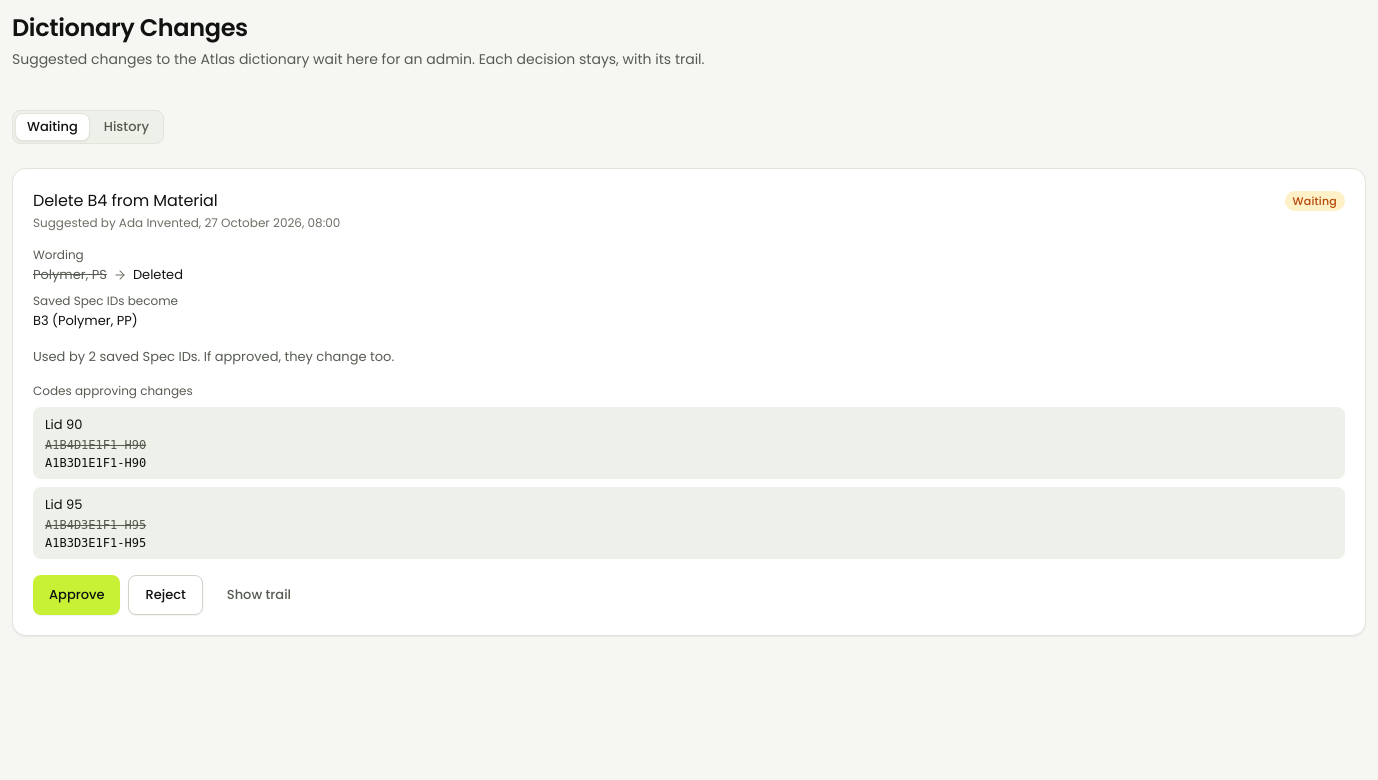
Test: DictionaryChangesPage › shows a refused approval's own message
Click the button "Approve".
click(77, 595)  # box left=33, top=575, right=120, bottom=615
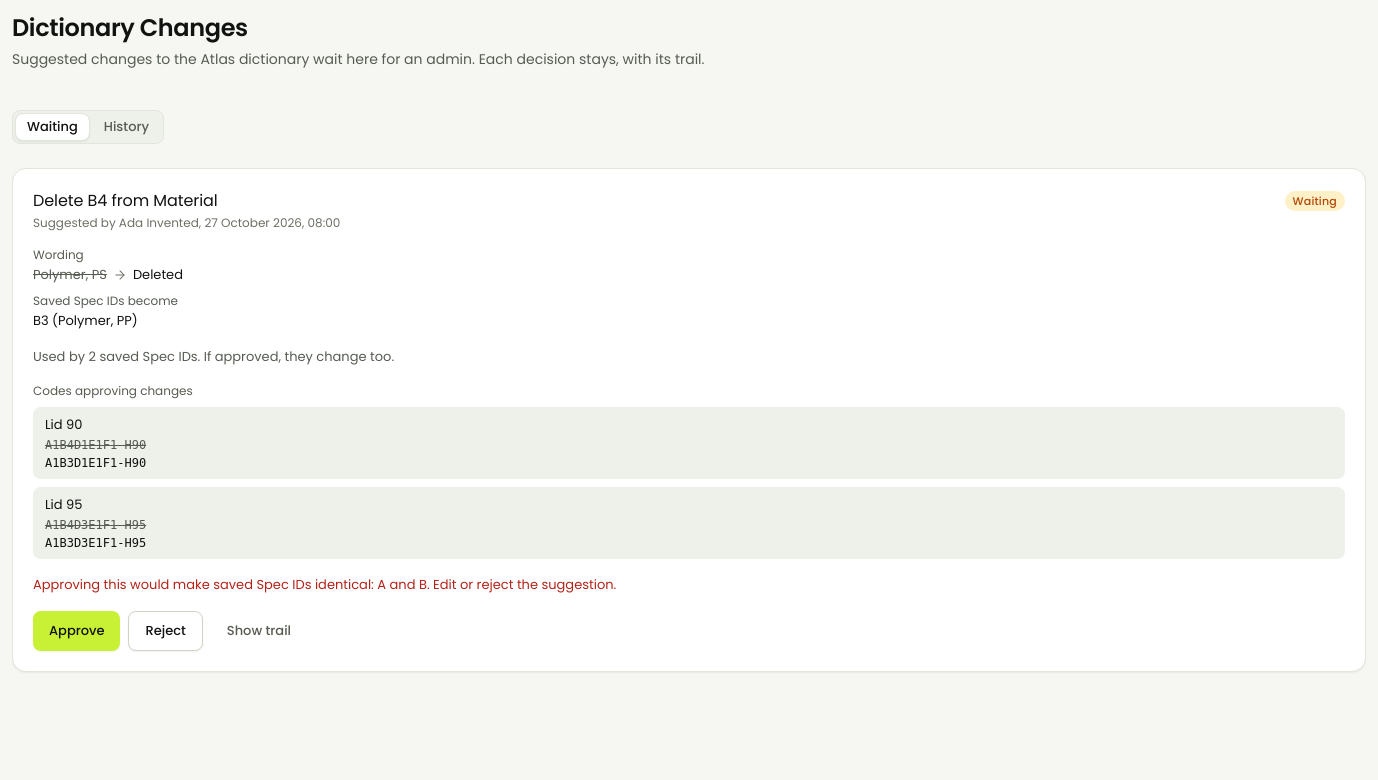
Check: the message shows "Approving this would make saved Spec IDs identical: A and B. Edit or reject the suggestion.", box left=33, top=575, right=616, bottom=594
